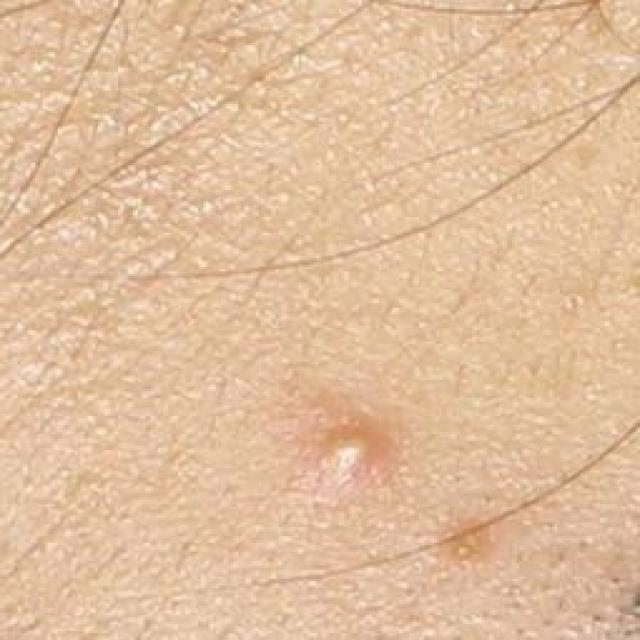Pimples: (310, 411, 392, 490)
